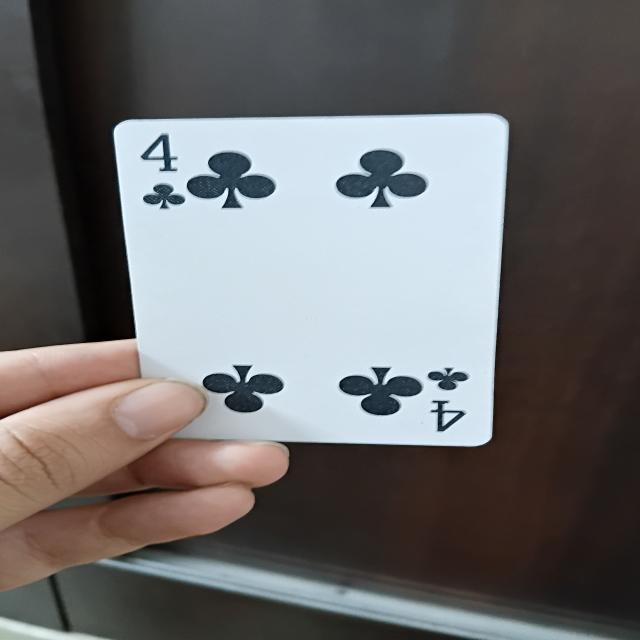4C: (108, 113, 506, 450)
